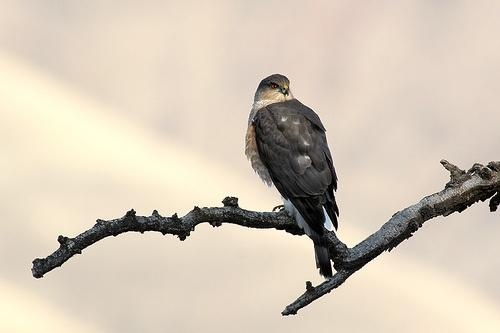bird: (245, 71, 345, 284)
